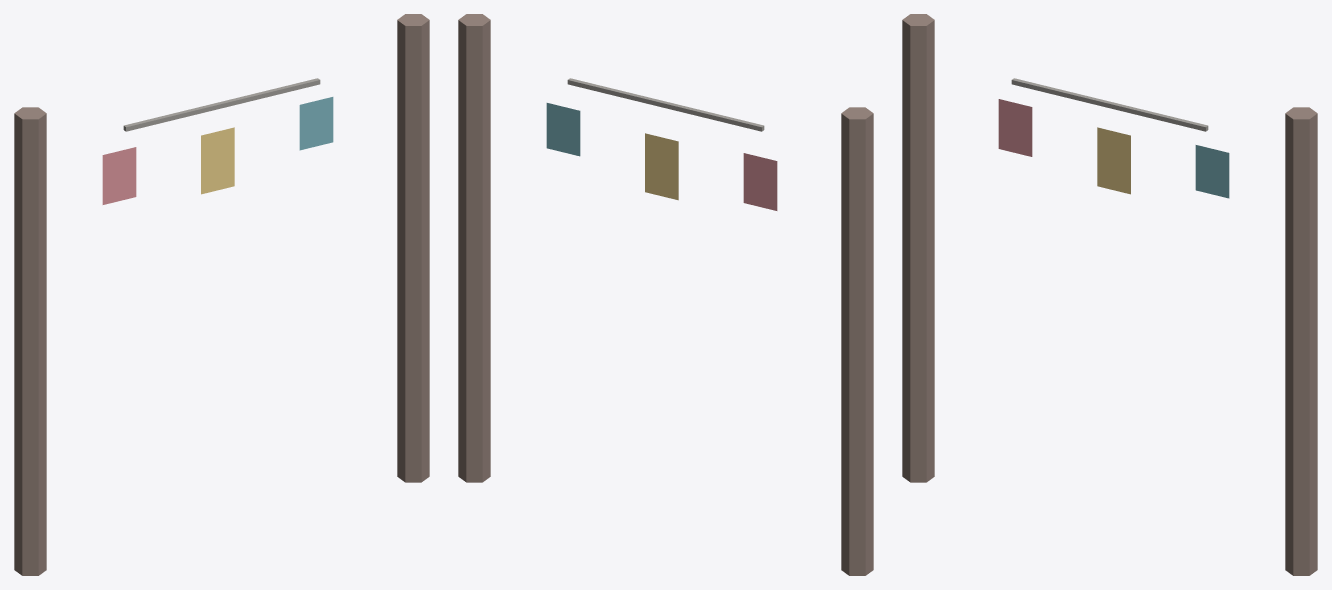
File: prop-laundry-01.glb
3 views of the same model, side by side, from view 1: azimuth 30°, elevation 25°; view 2: azimuth 150°, elevation 25°; view 3: azimuth 330°, elevation 25° (orthographic).
Parts seen in each view (by area): view 1: Post_0.68, Post_-0.68, Cloth_1, Cloth_0, Cloth_2, Line; view 2: Post_0.68, Post_-0.68, Cloth_1, Cloth_0, Cloth_2, Line; view 3: Post_0.68, Post_-0.68, Cloth_1, Cloth_0, Cloth_2, Line.
Boxes of the visible parts, x1=… form: Post_0.68: x1=397, y1=14, x2=429, y2=482; Post_-0.68: x1=14, y1=107, x2=46, y2=575; Cloth_1: x1=201, y1=127, x2=234, y2=194; Cloth_0: x1=102, y1=147, x2=136, y2=204; Cloth_2: x1=299, y1=97, x2=333, y2=150; Line: x1=123, y1=78, x2=320, y2=131; Post_0.68: x1=458, y1=14, x2=490, y2=482; Post_-0.68: x1=841, y1=107, x2=873, y2=575; Cloth_1: x1=645, y1=133, x2=678, y2=200; Cloth_0: x1=743, y1=153, x2=777, y2=210; Cloth_2: x1=546, y1=103, x2=580, y2=156; Line: x1=567, y1=78, x2=764, y2=131; Post_0.68: x1=1285, y1=107, x2=1317, y2=575; Post_-0.68: x1=902, y1=14, x2=934, y2=482; Cloth_1: x1=1097, y1=127, x2=1130, y2=194; Cloth_0: x1=998, y1=99, x2=1032, y2=156; Cloth_2: x1=1195, y1=145, x2=1229, y2=198; Line: x1=1011, y1=78, x2=1208, y2=131.
Bounding box in the file's own units: 1.45 × 1.55 × 0.1.
